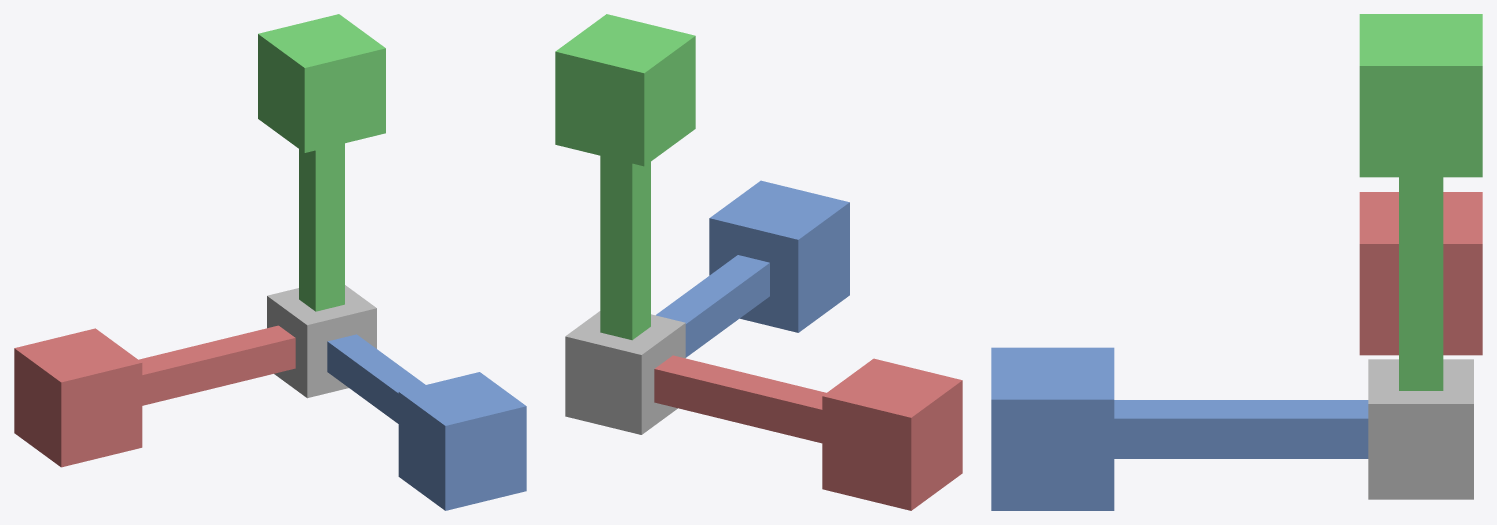
The model's file is Gizmo_Scale.fbx.
3 renders of one model, left to right at view 1: azimuth 30°, elevation 25°; view 2: azimuth 150°, elevation 25°; view 3: azimuth 270°, elevation 25°, orthographic. The views are drawn at different scales.
Visible parts, largest first — view 1: ScaleGizmo_Y, ScaleGizmo_X, ScaleGizmo_Z, ScaleGizmo; view 2: ScaleGizmo_Y, ScaleGizmo_X, ScaleGizmo_Z, ScaleGizmo; view 3: ScaleGizmo_Z, ScaleGizmo_Y, ScaleGizmo, ScaleGizmo_X.
Boxes of the visible parts, x1,y1,x2,y2 form: ScaleGizmo_Y: (258,14,385,311); ScaleGizmo_X: (14,325,295,467); ScaleGizmo_Z: (327,334,526,510); ScaleGizmo: (267,285,376,398); ScaleGizmo_Y: (555,14,695,340); ScaleGizmo_X: (654,355,962,510); ScaleGizmo_Z: (656,180,849,357); ScaleGizmo: (565,311,685,434); ScaleGizmo_Z: (991,347,1368,510); ScaleGizmo_Y: (1359,14,1482,390); ScaleGizmo: (1368,359,1473,499); ScaleGizmo_X: (1359,192,1482,355).
Size of the model in its own units: 400 by 400 by 400.
